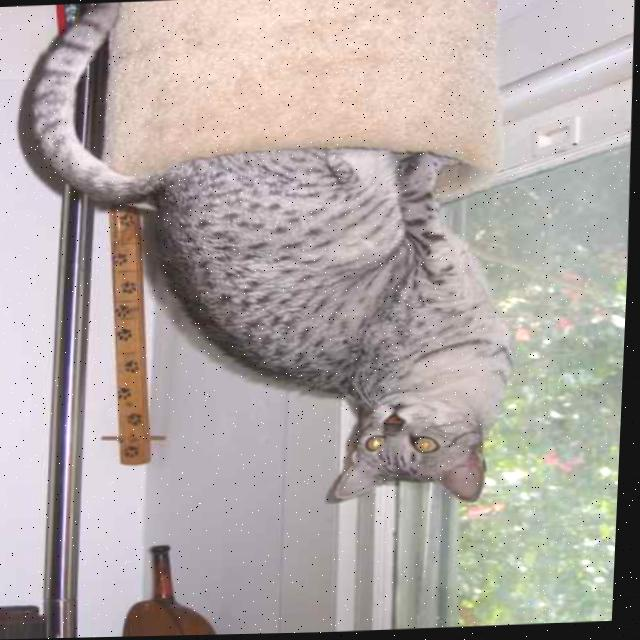Egyptian Mau: (8, 0, 532, 523)
